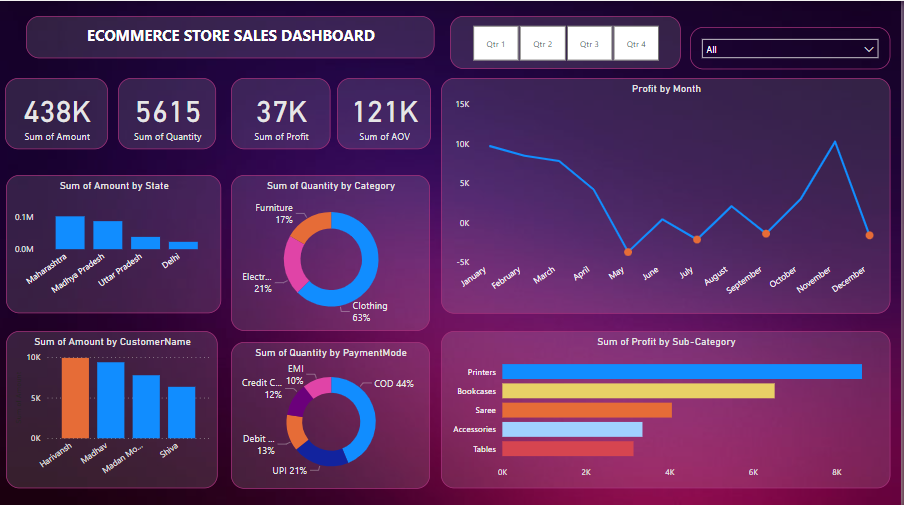

Layout of this report page (visuals, bound fields, positions):
{"tool":"powerbi","page":{"name":"Page 1","canvas":[1280,720],"ordinal":0},"visuals":[{"type":"textbox","box":[40.3,21.8,578.8,60.4],"z":0},{"type":"lineChart","title":"Profit by Month","fields":{"Category":["Orders.Order Date.Variation.Date Hierarchy.Month"],"Y":["Sum(Details.Profit)"]},"box":[627.4,109,637.5,333.8],"z":1000},{"type":"barChart","fields":{"Category":["Details.Sub-Category"],"Y":["Sum(Details.Profit)"]},"box":[627.4,468,637.5,223.1],"z":2000},{"type":"donutChart","fields":{"Y":["Sum(Details.Quantity)"],"Category":["Details.PaymentMode"]},"box":[330.5,483.1,281.8,208],"z":3000},{"type":"donutChart","fields":{"Category":["Details.Category"],"Y":["Sum(Details.Quantity)"]},"box":[330.5,246.6,281.8,221.4],"z":4000},{"type":"card","fields":{"Values":["Sum(Details.Amount)"]},"box":[10.1,109,146,100.7],"z":5000},{"type":"card","fields":{"Values":["Sum(Details.Quantity)"]},"box":[169.4,109,139.2,100.7],"z":6000},{"type":"card","fields":{"Values":["Sum(Details.Profit)"]},"box":[330.5,109,140.9,100.7],"z":7000},{"type":"card","fields":{"Values":["Sum(Details.AOV)"]},"box":[479.8,109,132.5,100.7],"z":8000},{"type":"columnChart","fields":{"Category":["Orders.State"],"Y":["Sum(Details.Amount)"]},"box":[11.7,246.6,305.3,196.3],"z":9000},{"type":"columnChart","fields":{"Category":["Orders.CustomerName"],"Y":["Sum(Details.Amount)"]},"box":[11.7,468,300.3,223.1],"z":10000},{"type":"slicer","fields":{"Values":["Orders.Order Date.Variation.Date Hierarchy.Quarter"]},"box":[640.8,21.8,327.1,75.5],"z":11000},{"type":"slicer","fields":{"Values":["Orders.State"]},"box":[981.4,36.9,283.5,60.4],"z":12000}]}

Visuals, with their boxes in screenshot pixels (x1, y1, x2, y2), scaled from the page's 1280x720 canvas onto the 904x505 screenshot:
textbox: box(28, 15, 437, 58)
"Profit by Month" lineChart: box(443, 76, 893, 311)
barChart - Details.Sub-Category x Sum(Details.Profit): box(443, 328, 893, 485)
donutChart - Sum(Details.Quantity) x Details.PaymentMode: box(233, 339, 432, 485)
donutChart - Details.Category x Sum(Details.Quantity): box(233, 173, 432, 328)
card - Sum(Details.Amount): box(7, 76, 110, 147)
card - Sum(Details.Quantity): box(120, 76, 218, 147)
card - Sum(Details.Profit): box(233, 76, 333, 147)
card - Sum(Details.AOV): box(339, 76, 432, 147)
columnChart - Orders.State x Sum(Details.Amount): box(8, 173, 224, 311)
columnChart - Orders.CustomerName x Sum(Details.Amount): box(8, 328, 220, 485)
slicer - Orders.Order Date.Variation.Date Hierarchy.Quarter: box(453, 15, 684, 68)
slicer - Orders.State: box(693, 26, 893, 68)
